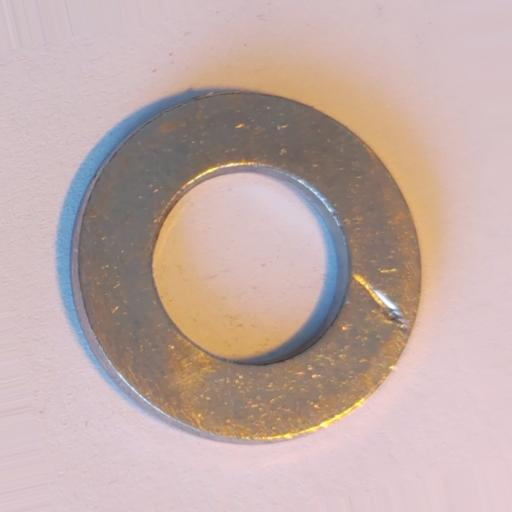scratch: (351, 271, 405, 328)
